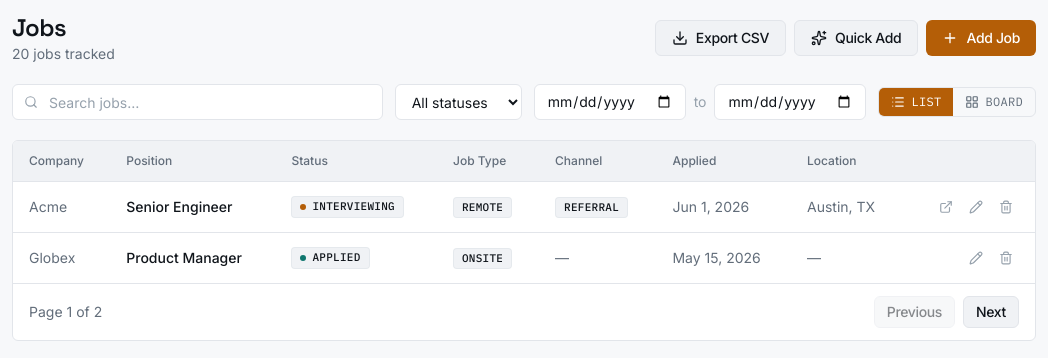
JobsPage › pagination › disables Previous on the first page and Next on the last
This screenshot has width=1048, height=358.
Expected: the text "Acme" is shown, [13,182,110,232]
Expected: the button "Previous" is disabled, [874,296,955,328]
Click the button "Next" at [991, 312], box [963,296,1019,328]
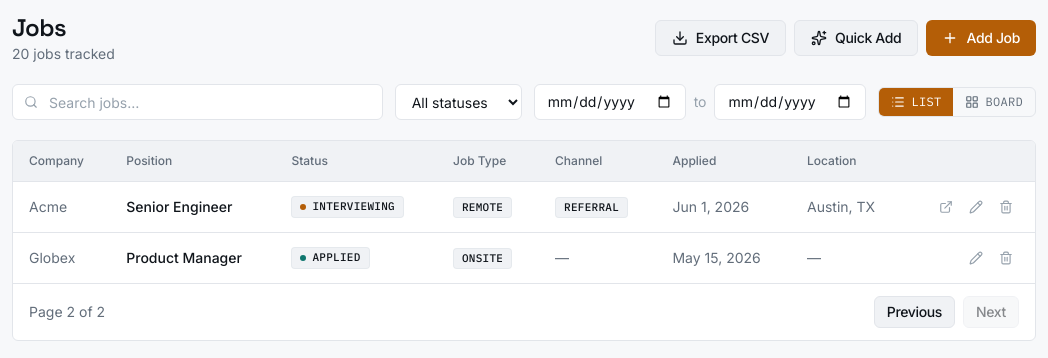
Expected: the text "Acme" is shown, [13,182,110,232]
Expected: the button "Previous" is enabled, [874,296,955,328]
Expected: the button "Next" is disabled, [963,296,1019,328]
